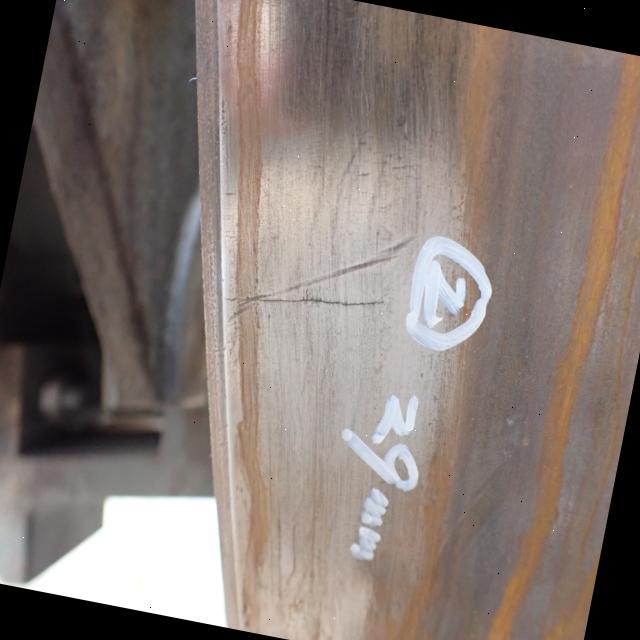Brake_Thermal_Cracks: (217, 264, 391, 345)
